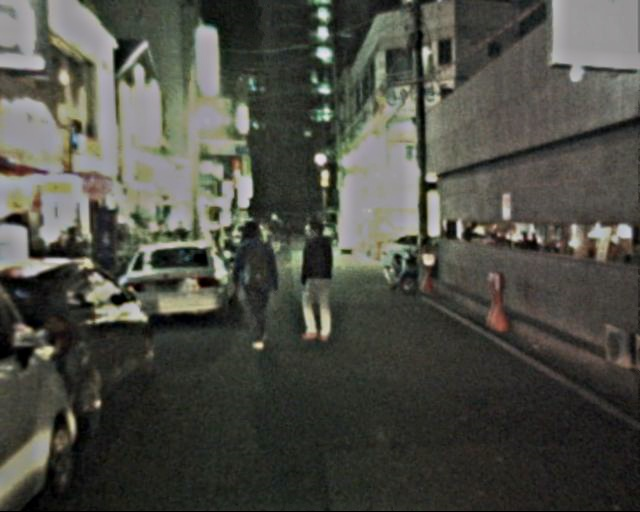person: (226, 221, 281, 351), (292, 225, 342, 348)
